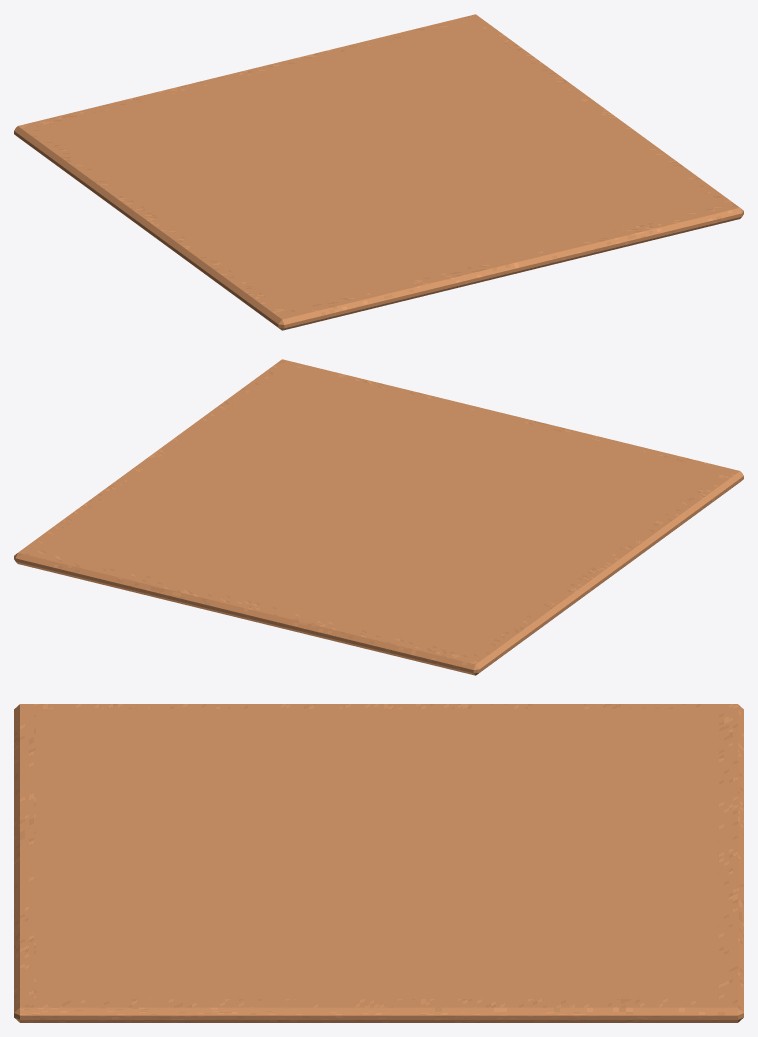
The model's file is lab_postit_portal.glb.
3 renders of one model, top to bottom at view 1: azimuth 30°, elevation 25°; view 2: azimuth 150°, elevation 25°; view 3: azimuth 270°, elevation 25°, orthographic. The views are drawn at different scales.
Parts seen in each view (by area): view 1: block_printed face, block_paper or card stock; view 2: block_printed face, block_paper or card stock; view 3: block_printed face, block_paper or card stock.
Part boxes in pixels (box(x1,y1,x2,y2)): block_printed face: box(35, 20, 723, 311); block_paper or card stock: box(14, 14, 743, 330); block_printed face: box(35, 364, 723, 655); block_paper or card stock: box(14, 359, 743, 675); block_printed face: box(36, 709, 718, 998); block_paper or card stock: box(14, 704, 743, 1022).
Size of the model in its own units: 0.076 by 0.00195 by 0.076.
Materials: 1 (1 with a texture image).
